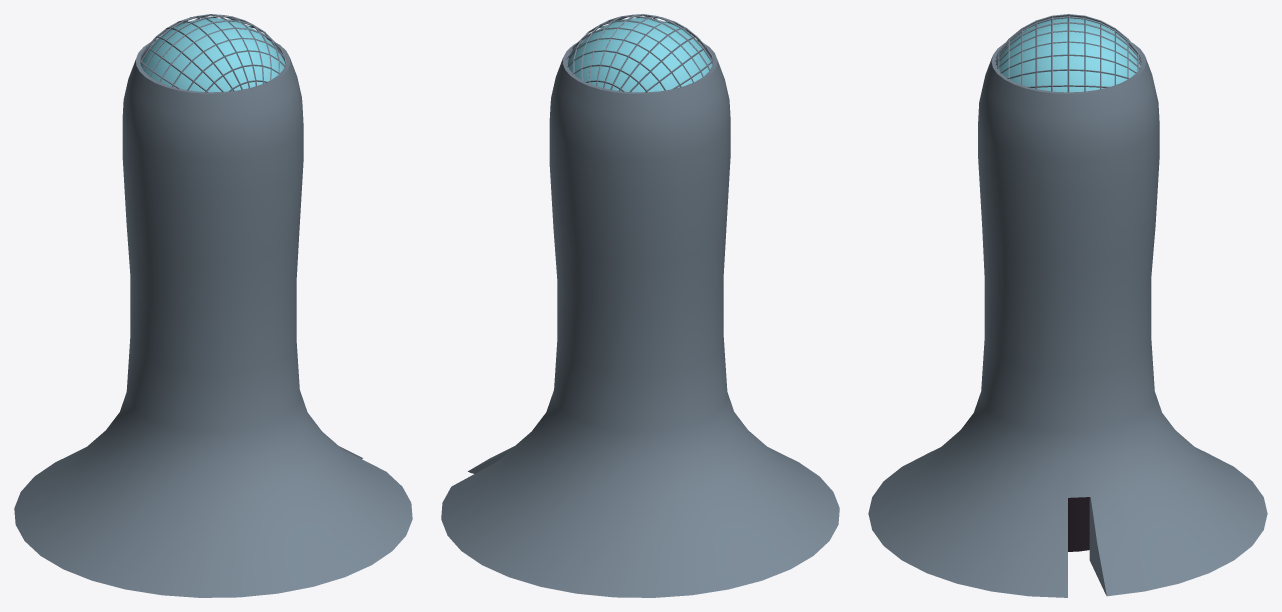
Rendered from SphericalTower1.fbx.
3 renders of one model, left to right at view 1: azimuth 30°, elevation 25°; view 2: azimuth 150°, elevation 25°; view 3: azimuth 270°, elevation 25°, orthographic.
Visible parts, largest first — view 1: Cylinder.006, Sphere.005, Sphere.004; view 2: Cylinder.006, Sphere.005, Sphere.004; view 3: Cylinder.006, Sphere.005, Sphere.004, Cylinder.007.
Boxes of the visible parts, x1,y1,x2,y2 form: Cylinder.006: (14, 39, 412, 597); Sphere.005: (140, 18, 285, 92); Sphere.004: (139, 14, 286, 92); Cylinder.006: (441, 39, 839, 597); Sphere.005: (568, 18, 712, 92); Sphere.004: (566, 14, 713, 92); Cylinder.006: (868, 43, 1267, 597); Sphere.005: (996, 18, 1141, 92); Sphere.004: (995, 14, 1141, 92); Cylinder.007: (1068, 497, 1089, 551).
Bounding box in the file's own units: 476 × 648 × 476.
